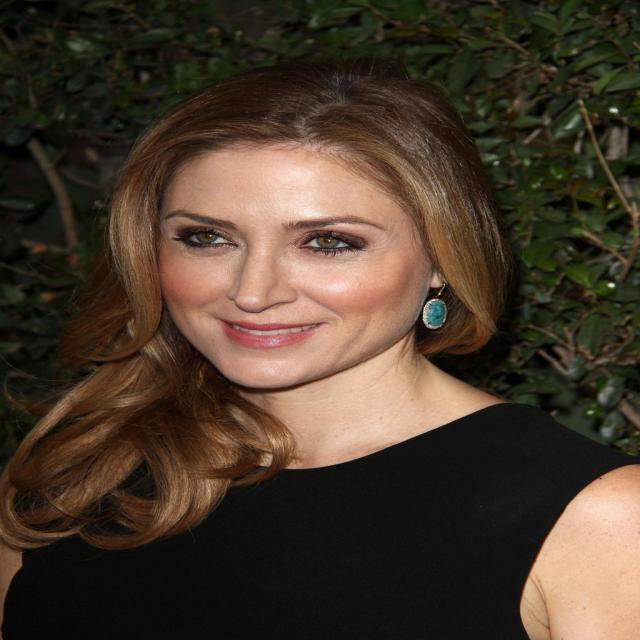Face: (151, 163, 434, 383)
